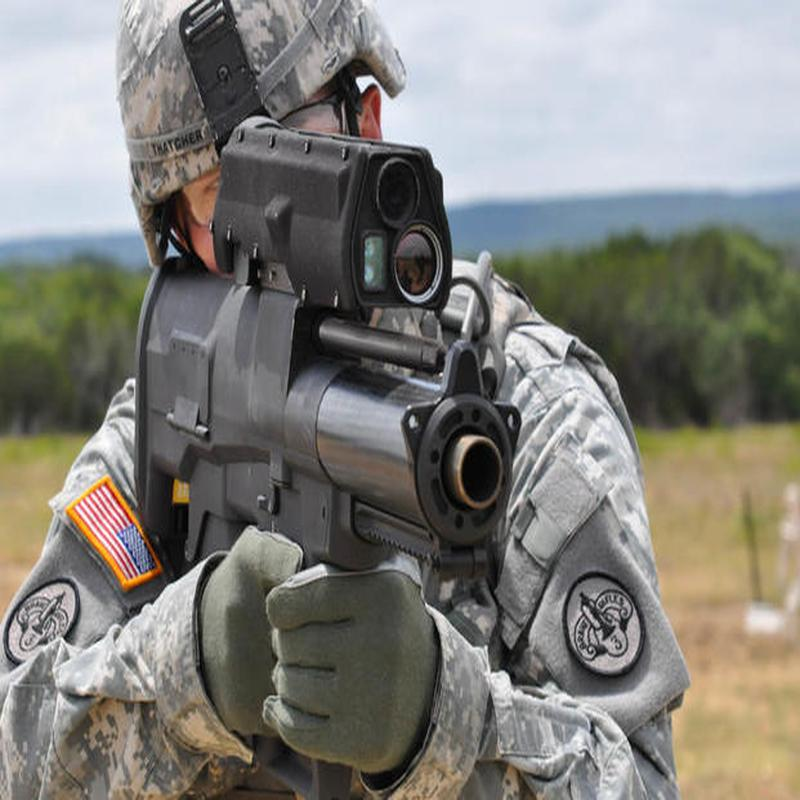GUN: (118, 86, 572, 800)
